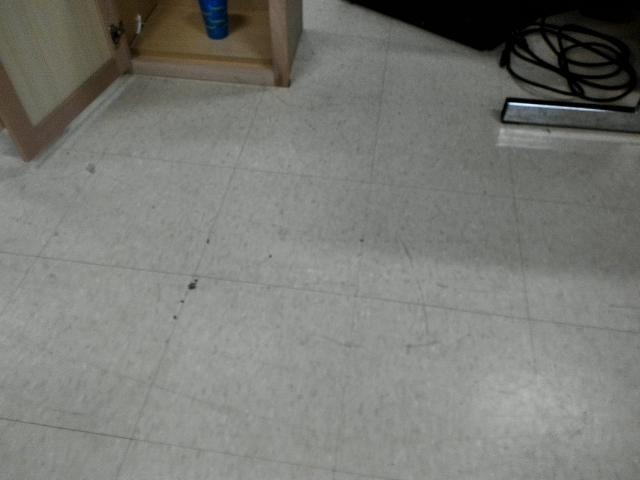water_cup: (193, 2, 236, 43)
